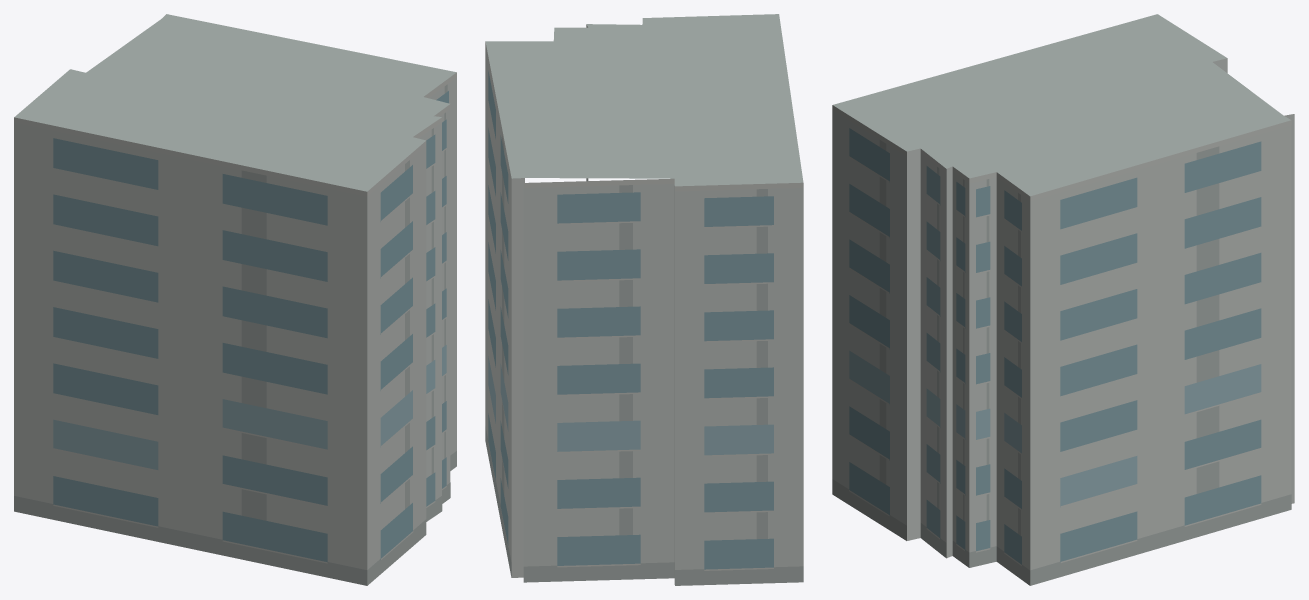
The model's file is survey-upis-32693915.glb.
The picture shows the model from 3 angles, left to right: view 1: azimuth 30°, elevation 25°; view 2: azimuth 150°, elevation 25°; view 3: azimuth 270°, elevation 25°; orthographic projection. The views are drawn at different scales.
Visible parts, largest first — view 1: survey-upis-32693915.tmp; view 2: survey-upis-32693915.tmp; view 3: survey-upis-32693915.tmp.
Part boxes in pixels (bbox=[...]): survey-upis-32693915.tmp: bbox=[14, 14, 456, 585]; survey-upis-32693915.tmp: bbox=[485, 14, 803, 585]; survey-upis-32693915.tmp: bbox=[832, 14, 1294, 585].
Bounding box in the file's own units: 18.89 × 18.8 × 20.22.
